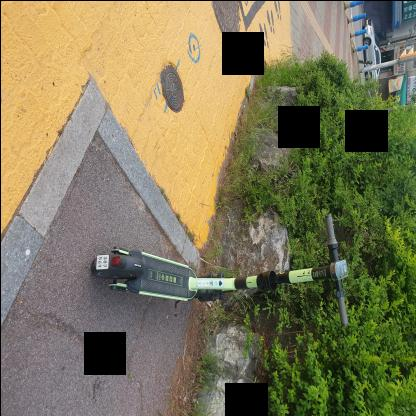kickboard: (165, 0, 263, 333)
